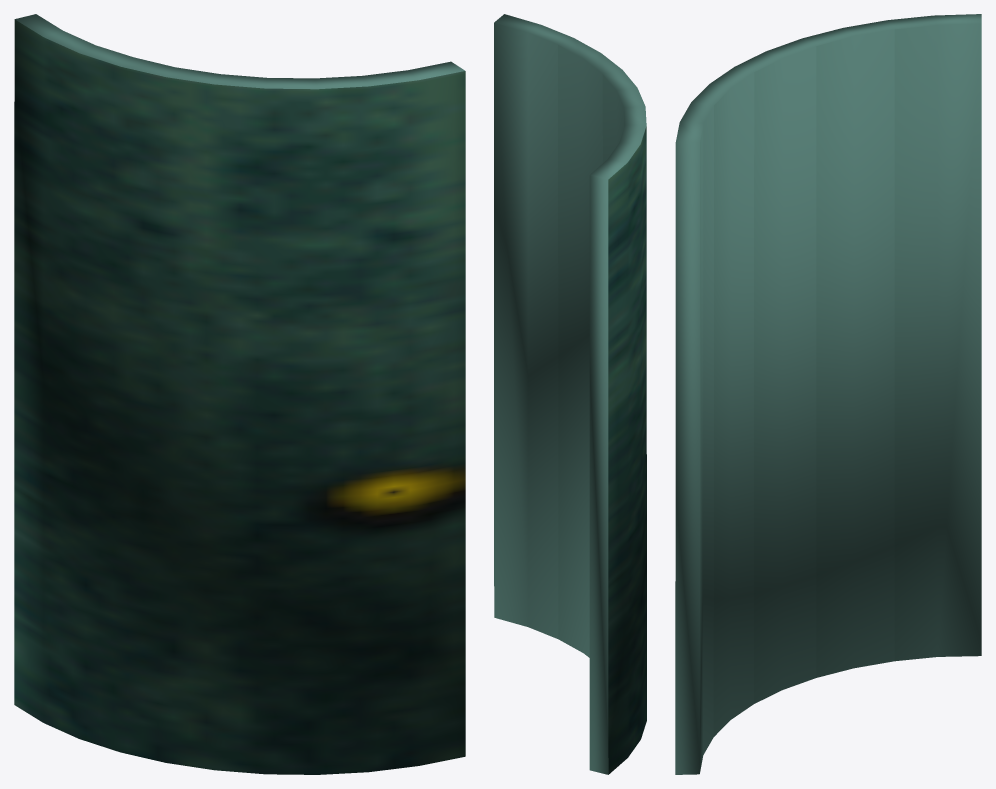
Rendered from ggef.hrc.gltf.
3 views of the same model, side by side, from view 1: azimuth 30°, elevation 25°; view 2: azimuth 150°, elevation 25°; view 3: azimuth 270°, elevation 25° (orthographic). The views are drawn at different scales.
Visible parts, largest first — view 1: ggefBone0_null; view 2: ggefBone0_null; view 3: ggefBone0_null.
Boxes of the visible parts, x1=… form: ggefBone0_null: x1=14, y1=14, x2=465, y2=774; ggefBone0_null: x1=494, y1=14, x2=646, y2=774; ggefBone0_null: x1=675, y1=14, x2=981, y2=774.
Size of the model in its own units: 15.07 by 34.59 by 15.16.
2 materials, 1 textured.
